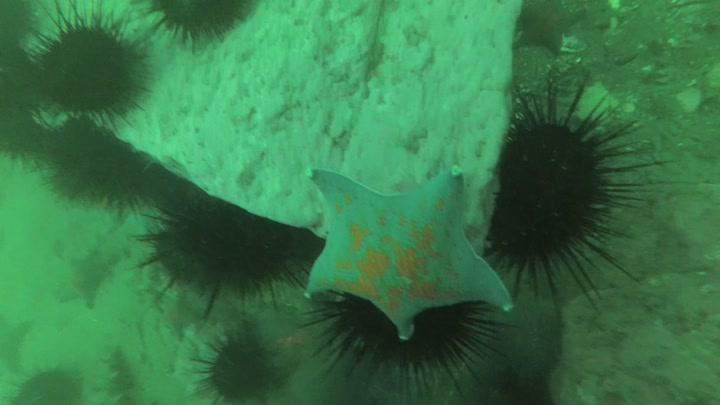urchin: (484, 73, 648, 305), (133, 196, 309, 312), (317, 296, 504, 390), (30, 6, 145, 118), (37, 117, 143, 216), (189, 332, 274, 398), (144, 3, 255, 43), (15, 366, 85, 405)
